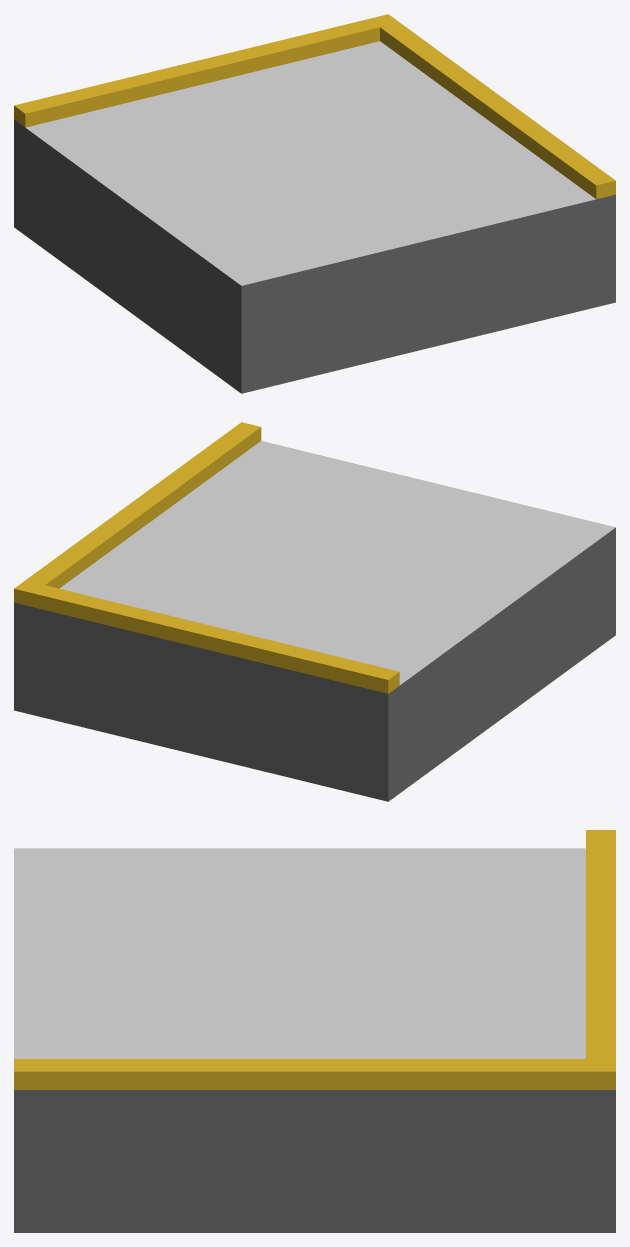
The model's file is Platform_TurnLeft.fbx.
3 renders of one model, top to bottom at view 1: azimuth 30°, elevation 25°; view 2: azimuth 150°, elevation 25°; view 3: azimuth 270°, elevation 25°, orthographic. The views are drawn at different scales.
Visible parts, largest first — view 1: Platform_TurnLeft; view 2: Platform_TurnLeft; view 3: Platform_TurnLeft.
Boxes of the visible parts, x1=… form: Platform_TurnLeft: x1=14, y1=14, x2=615, y2=393; Platform_TurnLeft: x1=14, y1=422, x2=615, y2=801; Platform_TurnLeft: x1=14, y1=830, x2=615, y2=1232.
Bounding box in the file's own units: 1133 × 352 × 1192.
